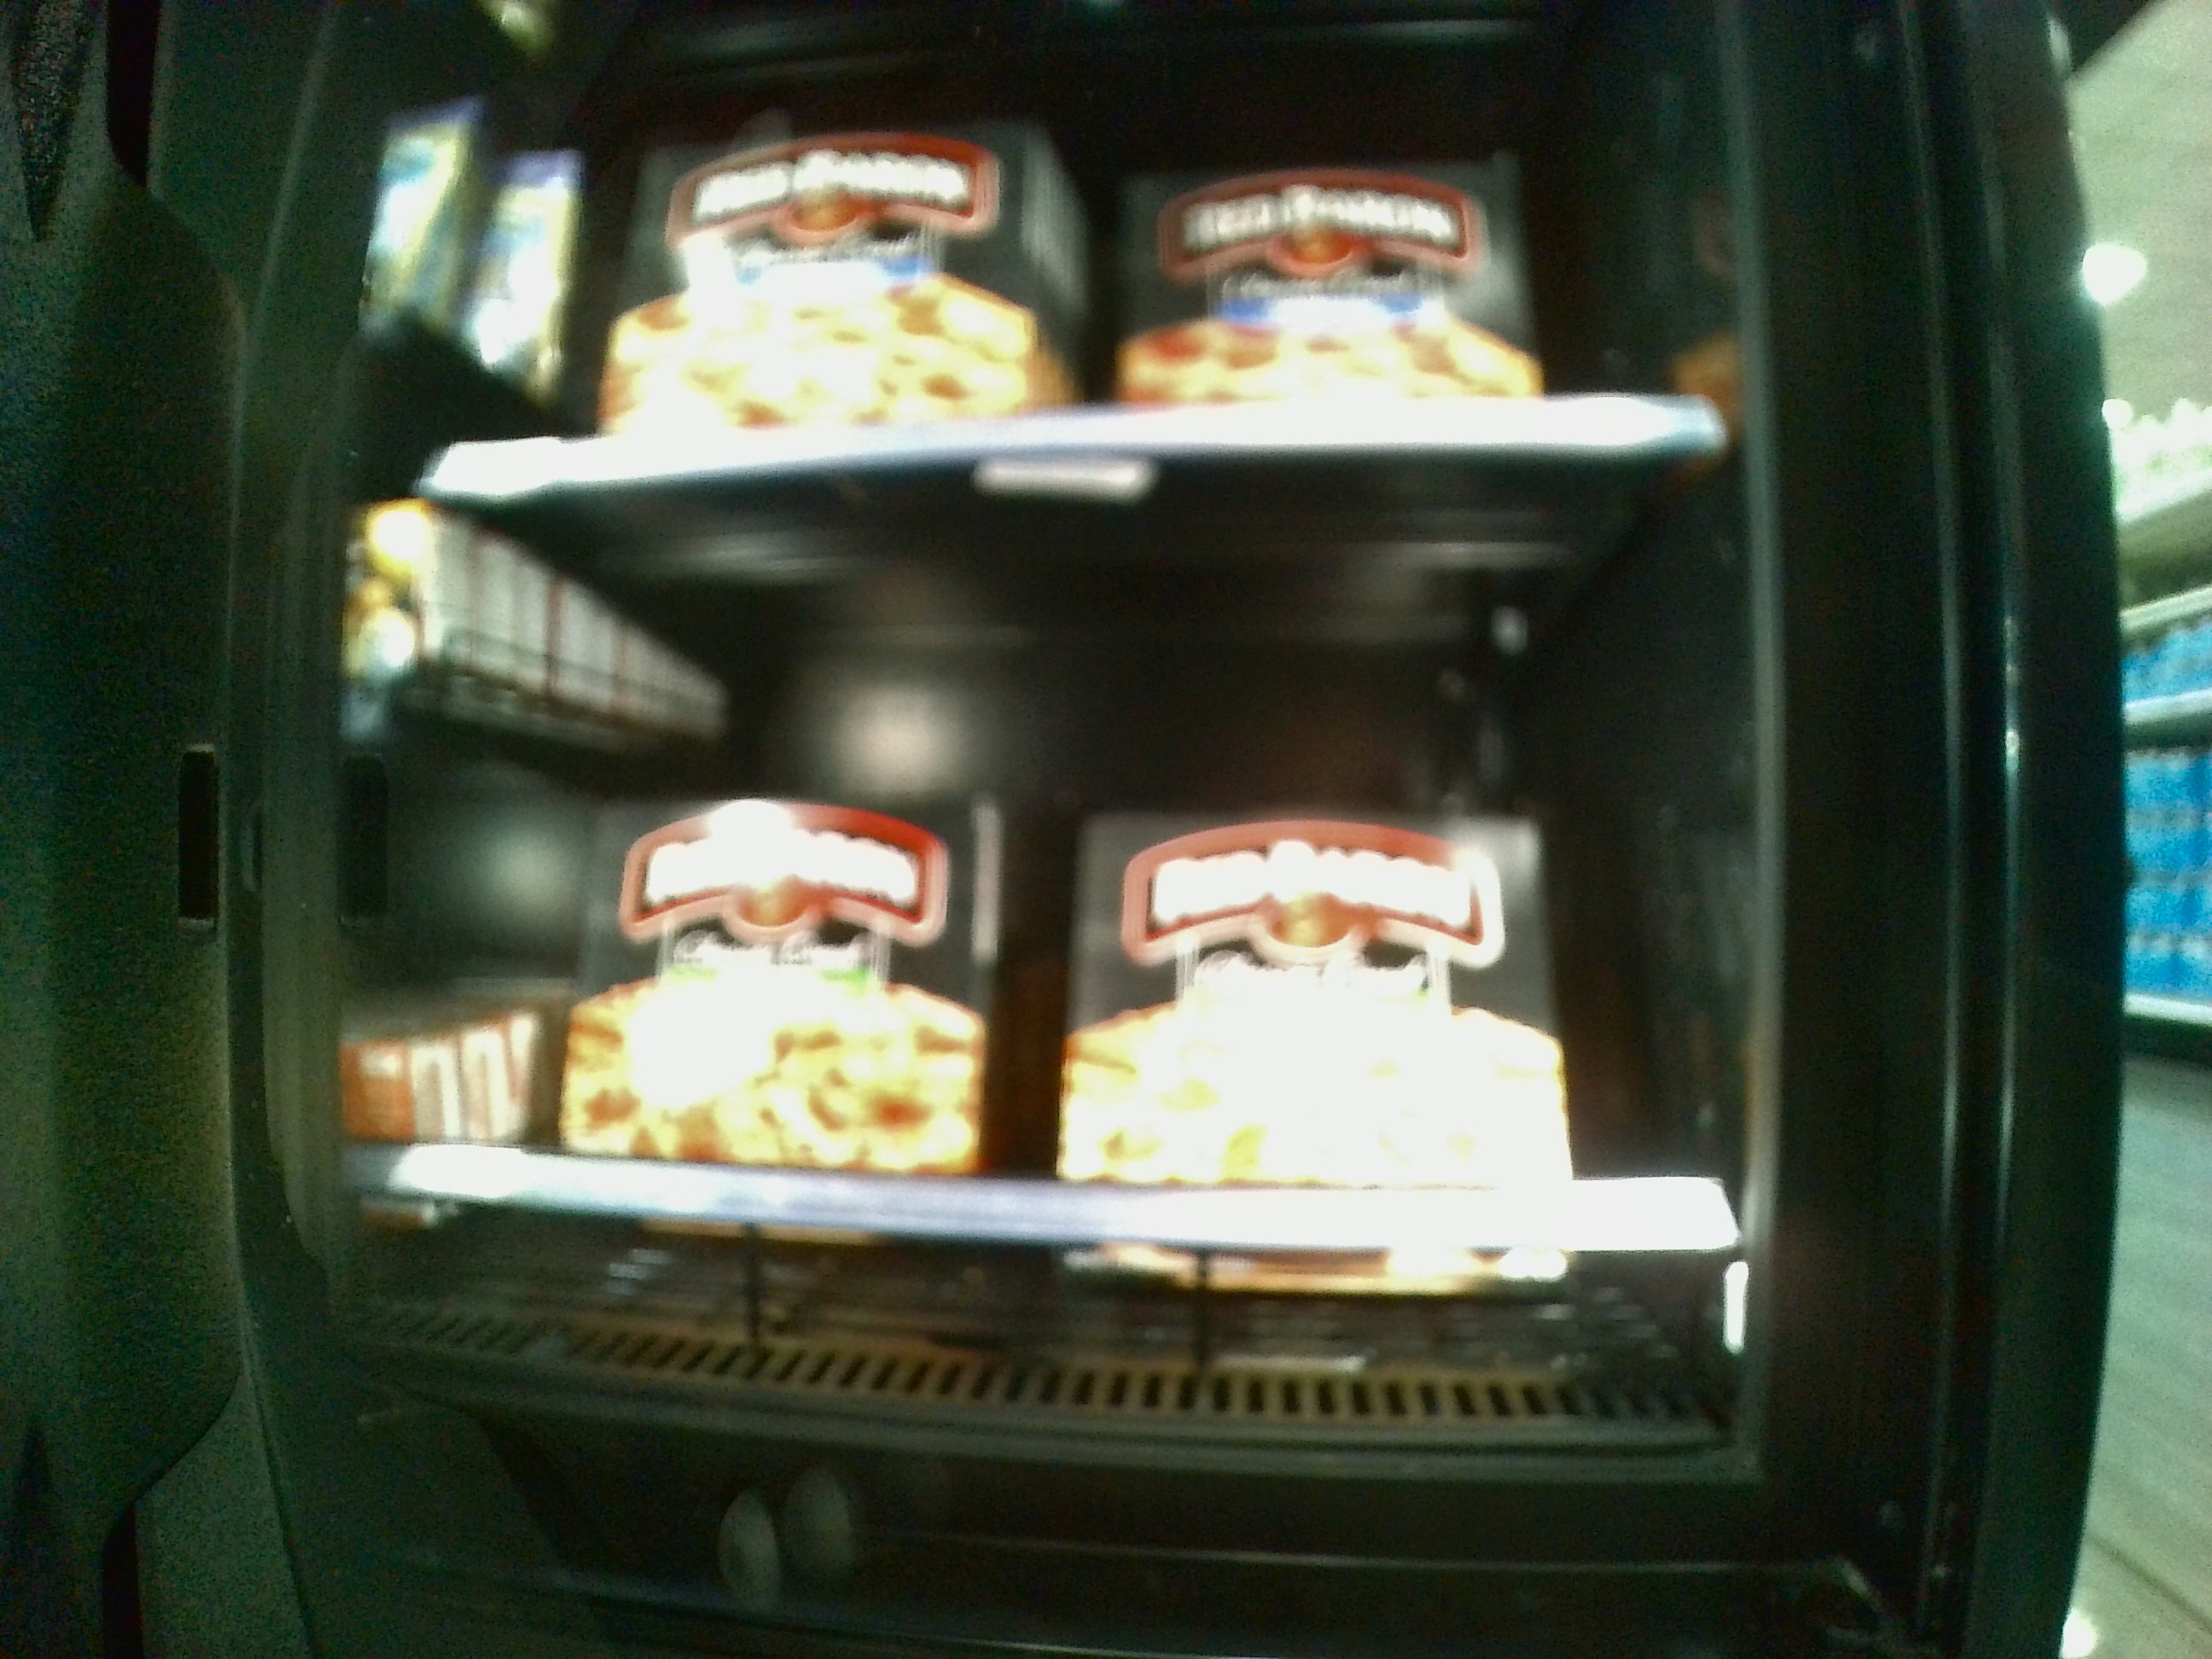shelf: (430, 495, 1728, 1412)
